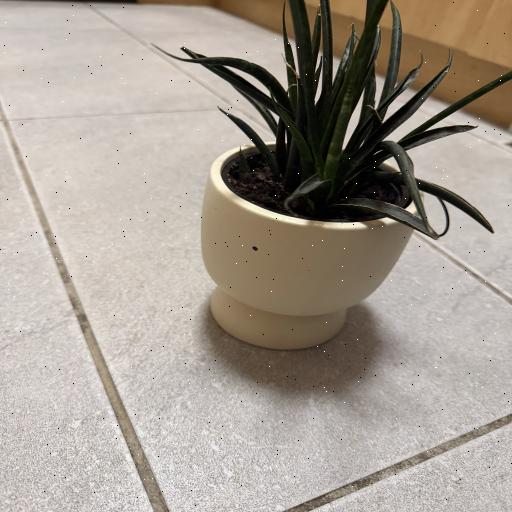Plant Pot: (187, 144, 426, 349)
